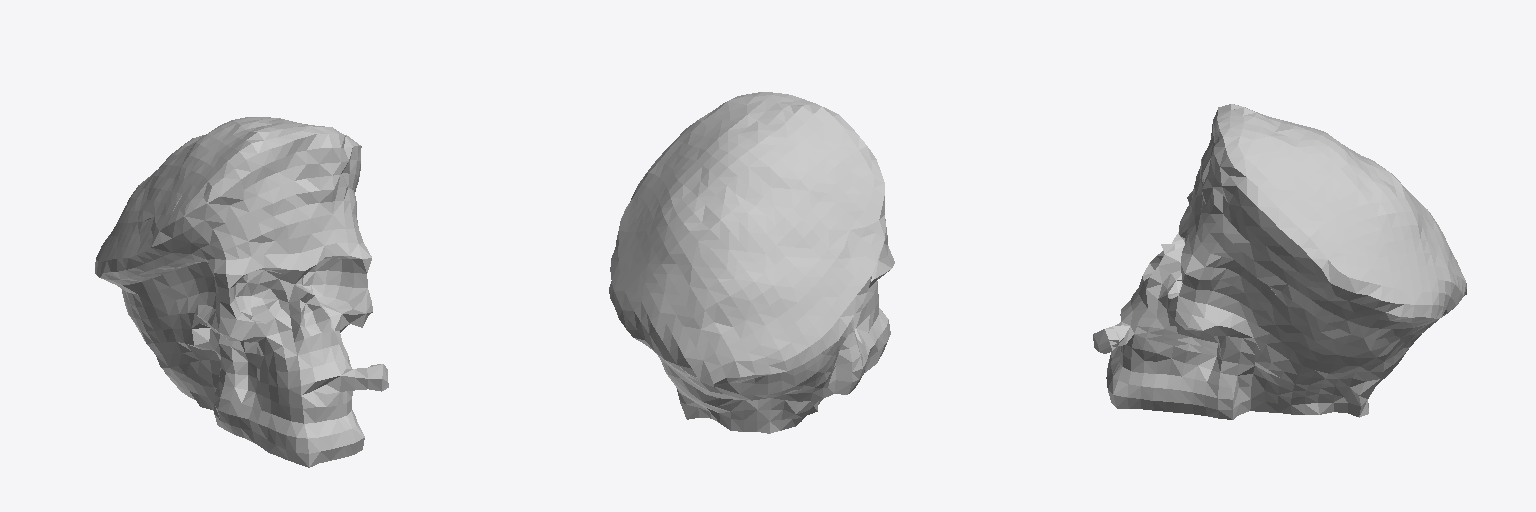
The model's file is calavera.obj.
3 views of the same model, side by side, from view 1: azimuth 30°, elevation 25°; view 2: azimuth 150°, elevation 25°; view 3: azimuth 270°, elevation 25° (orthographic).
Visible parts, largest first — view 1: skull_scan_Low_skull_teste_0; view 2: skull_scan_Low_skull_teste_0; view 3: skull_scan_Low_skull_teste_0.
Part boxes in pixels (left/top/right/bottom): skull_scan_Low_skull_teste_0: left=95, top=117, right=388, bottom=467; skull_scan_Low_skull_teste_0: left=609, top=92, right=894, bottom=433; skull_scan_Low_skull_teste_0: left=1093, top=104, right=1466, bottom=419.
Size of the model in its own units: 7.88 by 9.11 by 10.96.